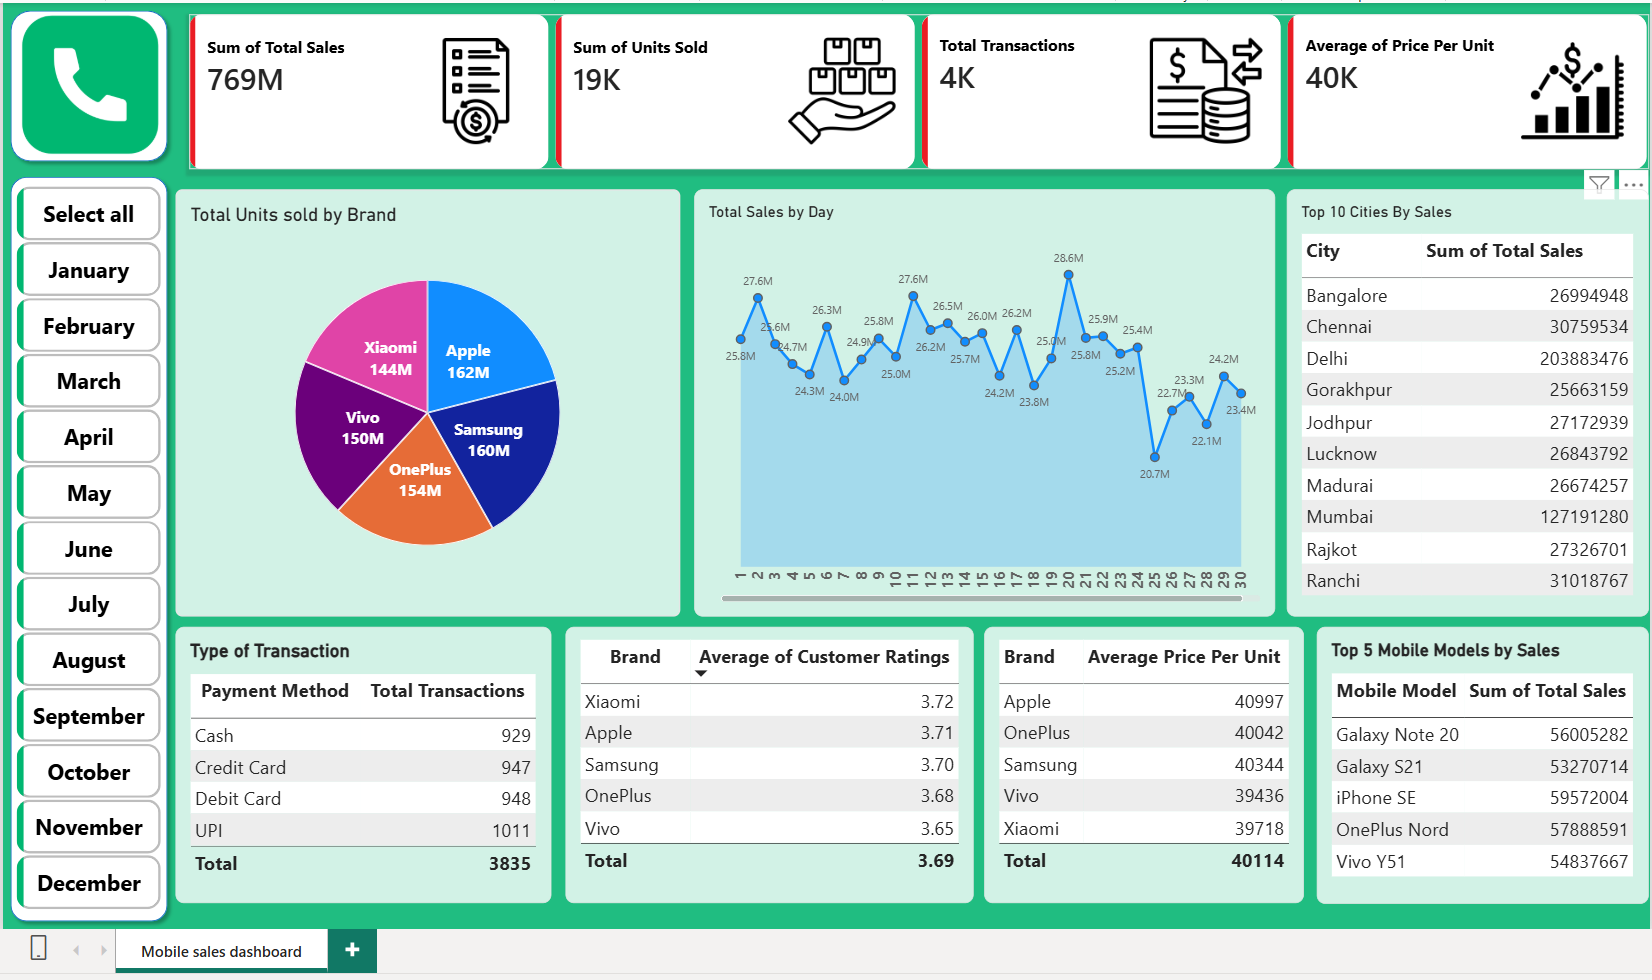

This screenshot's page, from the dashboard's own definition file:
{"tool":"powerbi","page":{"name":"Mobile sales dashboard","canvas":[1920,1080],"ordinal":0},"visuals":[{"type":"shape","box":[0,0,200.6,193.6],"z":0},{"type":"image","box":[14,12.2,174.4,167.4],"z":1000},{"type":"shape","box":[0,193.6,200.6,886],"z":2000},{"type":"listSlicer","fields":{"Values":["Total Mobile Sales.Date.Variation.Date Hierarchy.Month"]},"box":[0,193.6,200.6,886],"z":3000},{"type":"cardVisual","fields":{"Data":["Sum(Total Mobile Sales.Total Sales)","Sum(Total Mobile Sales.Units Sold)","Total Mobile Sales.Total Transactions","Avg(Total Mobile Sales.Price Per Unit)"]},"box":[217.4,12.7,1702.6,181.1],"z":4000},{"type":"pieChart","title":"Total Units sold by Brand","fields":{"Category":["Total Mobile Sales.Brand"],"Y":["Sum(Total Mobile Sales.Total Sales)"]},"box":[201.1,217.4,588.7,498.1],"z":5000},{"type":"lineChart","title":"Total Sales by Day","fields":{"Y":["Sum(Total Mobile Sales.Total Sales)"],"Category":["Total Mobile Sales.Date.Variation.Date Hierarchy.Day"]},"box":[806,217.4,677.4,498.1],"z":6000},{"type":"tableEx","title":"Top 10 Cities By Sales","fields":{"Values":["Total Mobile Sales.City","Sum(Total Mobile Sales.Total Sales)"]},"box":[1498,217.4,422,498.1],"z":7000},{"type":"tableEx","title":"Type of Transaction","fields":{"Values":["Total Mobile Sales.Payment Method","CountNonNull(Total Mobile Sales.Transaction ID)"]},"box":[201.1,728.2,438.3,322.4],"z":8000},{"type":"tableEx","fields":{"Values":["Total Mobile Sales.Brand","Avg(Total Mobile Sales.Customer Ratings)"]},"box":[655.7,728.2,476.4,322.4],"z":9000},{"type":"tableEx","fields":{"Values":["Total Mobile Sales.Brand","Avg(Total Mobile Sales.Price Per Unit)"]},"box":[1144.8,728.2,373.1,322.4],"z":9001},{"type":"tableEx","title":"Top 5 Mobile Models by Sales","fields":{"Values":["Total Mobile Sales.Mobile Model","Sum(Total Mobile Sales.Total Sales)"]},"box":[1532.6,727.5,387.4,322.9],"z":9002}]}

Visuals, with their boxes in screenshot pixels (x1, y1, x2, y2):
shape: 0 0 166 164
image: 8 10 156 152
shape: 0 164 166 916
listSlicer - Total Mobile Sales.Date.Variation.Date Hierarchy.Month: 0 164 166 916
cardVisual - Sum(Total Mobile Sales.Total Sales) x Sum(Total Mobile Sales.Units Sold): 180 11 1625 164
"Total Units sold by Brand" pieChart: 166 184 666 607
"Total Sales by Day" lineChart: 680 184 1254 607
"Top 10 Cities By Sales" tableEx: 1267 184 1625 607
"Type of Transaction" tableEx: 166 618 538 891
tableEx - Total Mobile Sales.Brand x Avg(Total Mobile Sales.Customer Ratings): 552 618 956 891
tableEx - Total Mobile Sales.Brand x Avg(Total Mobile Sales.Price Per Unit): 967 618 1284 891
"Top 5 Mobile Models by Sales" tableEx: 1296 617 1625 891
